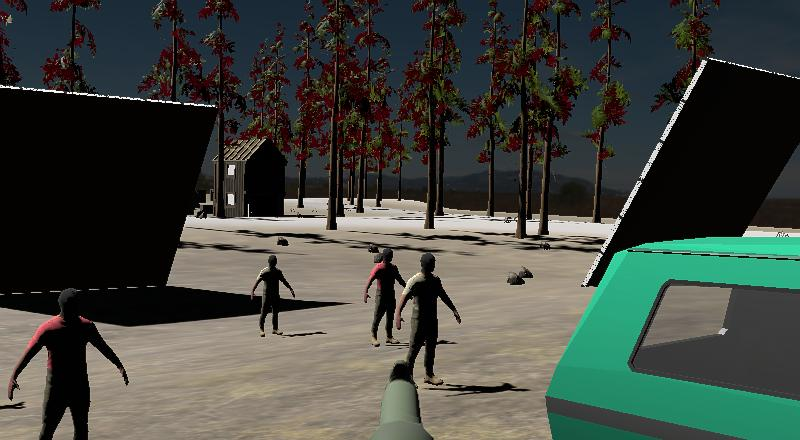House: (208, 133, 288, 218)
Human: (3, 287, 132, 438), (393, 253, 464, 388), (361, 244, 406, 347), (249, 253, 297, 339)
car: (544, 233, 800, 439)
